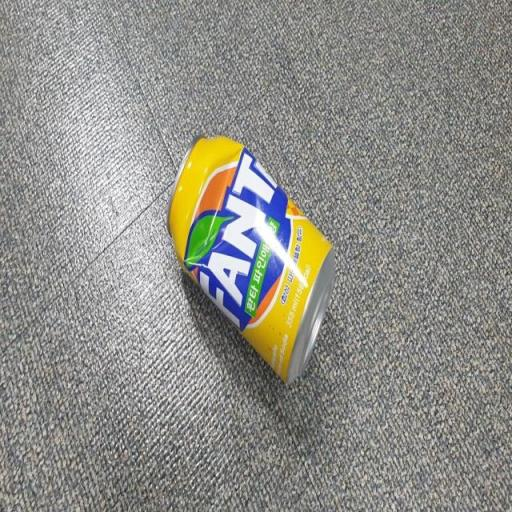metal: (152, 96, 356, 410)
